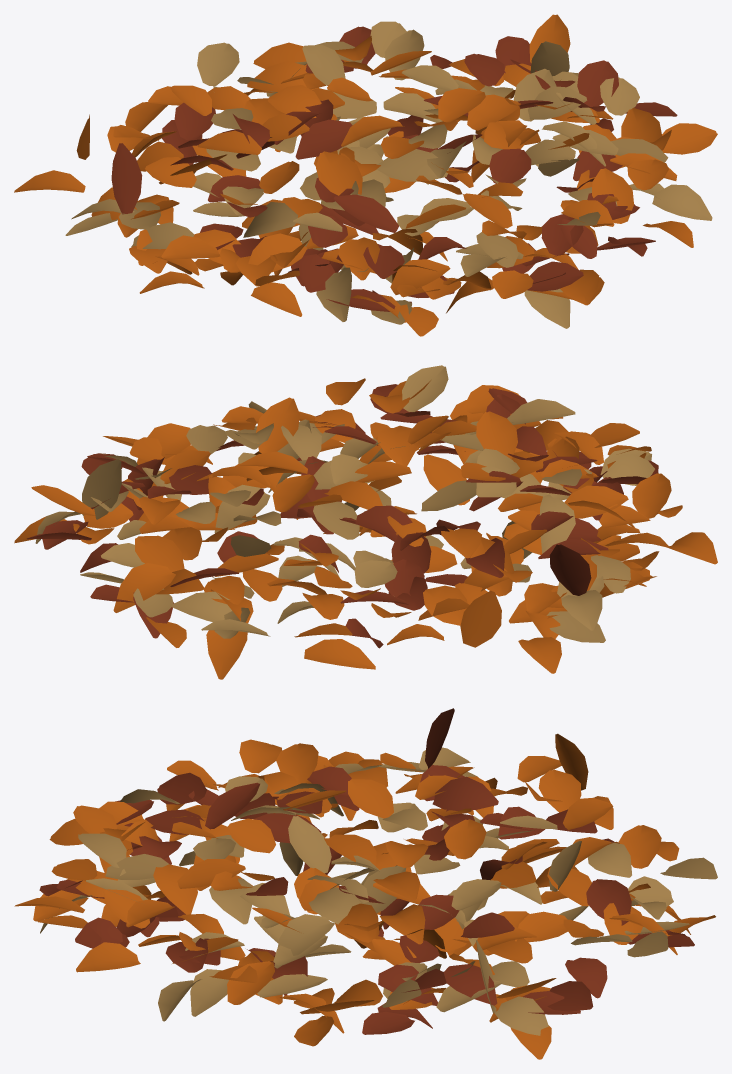
The model's file is leaf_pile.glb.
The picture shows the model from 3 angles, top to bottom: view 1: azimuth 30°, elevation 25°; view 2: azimuth 150°, elevation 25°; view 3: azimuth 270°, elevation 25°; orthographic projection. The views are drawn at different scales.
Parts seen in each view (by area): view 1: A, B, C; view 2: A, B, C; view 3: A, B, C.
Part boxes in pixels (x1,y1,x2,y2): A: [14, 14, 717, 336]; B: [65, 21, 712, 328]; C: [111, 26, 677, 311]; A: [14, 378, 717, 679]; B: [35, 365, 658, 642]; C: [26, 384, 658, 648]; A: [14, 733, 715, 1059]; B: [40, 747, 717, 1035]; C: [39, 708, 694, 1034].
Bounding box in the file's own units: 1.04 × 0.1804 × 1.03.
